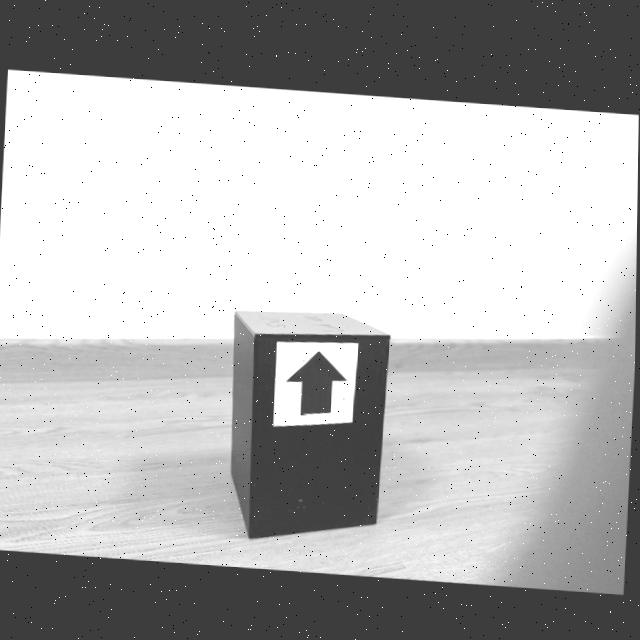UP: (286, 349, 349, 412)
